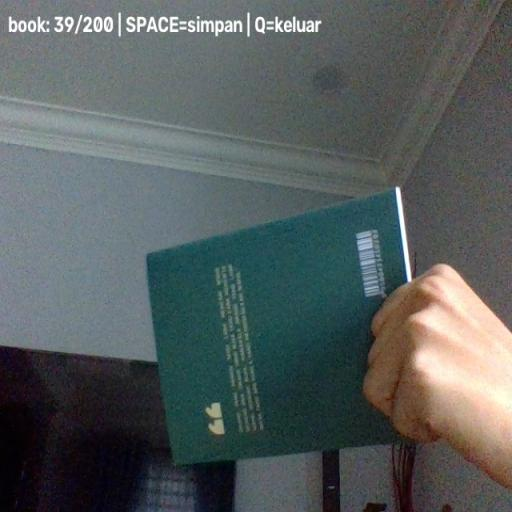Book: (145, 187, 413, 468)
